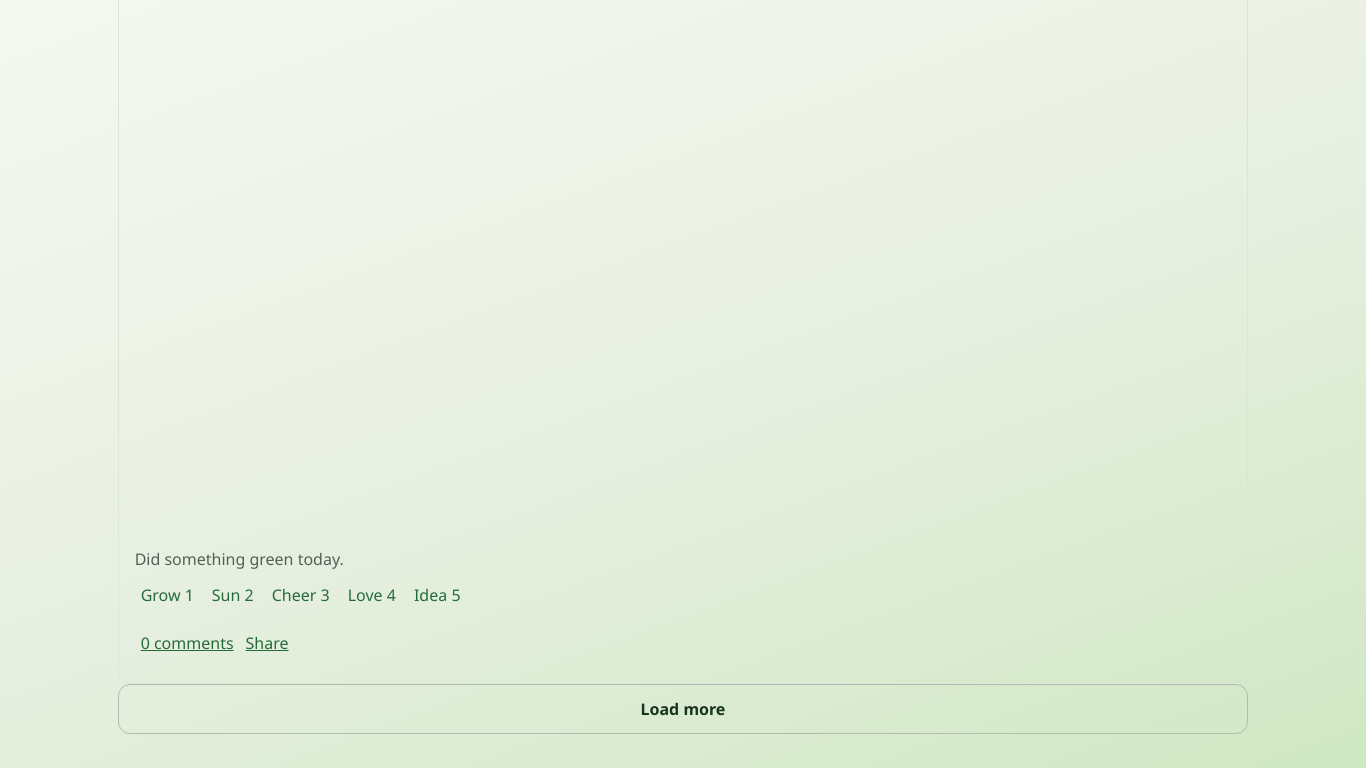
Test: Community feed — pagination › load-more appends without duplicating existing posts
The width and height of the screenshot is (1366, 768).
(page scrolled)
Click the button "Load more" at {"x": 683, "y": 709}, box [118,684,1248,734]
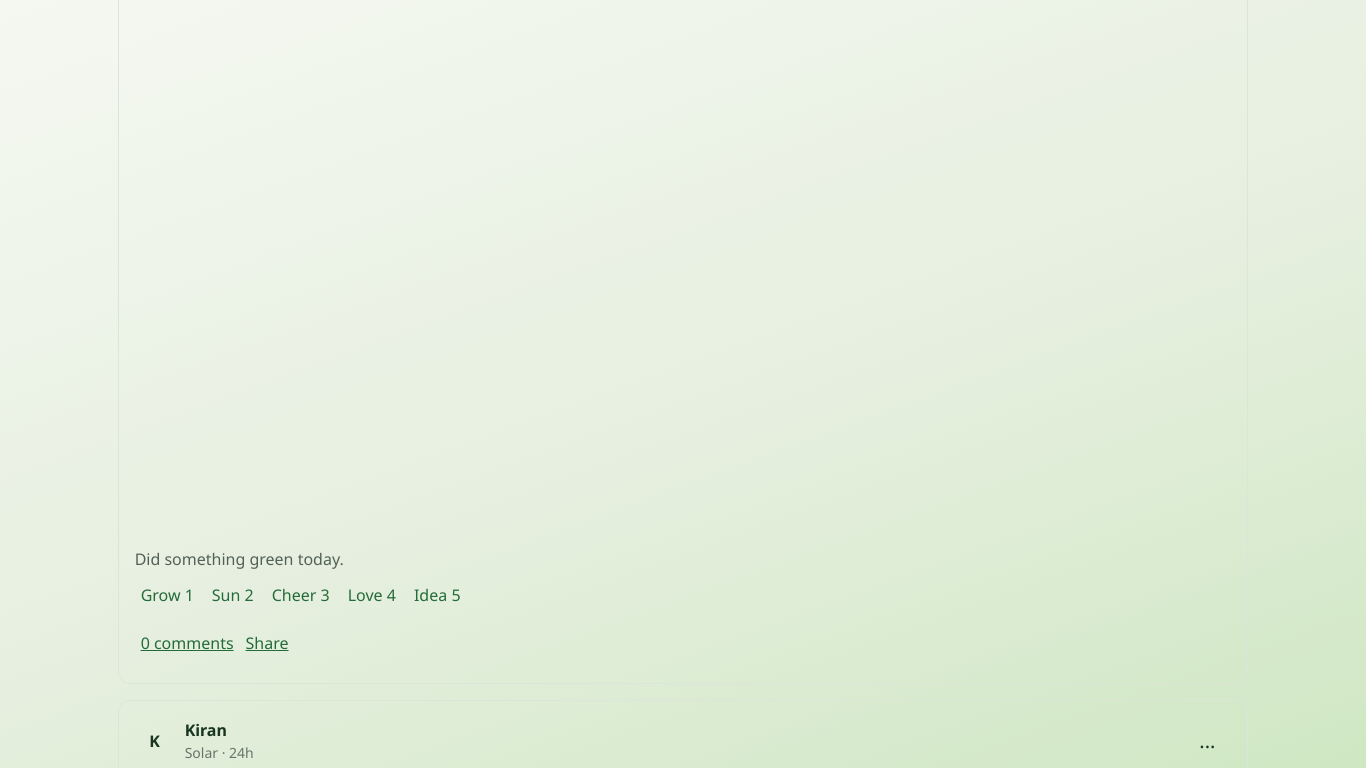
Expected: the text "Kiran" is shown once, [185,719,227,741]
